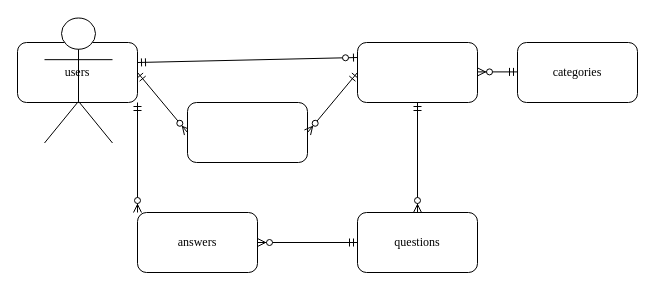
This 655x290 diagram has some shape labels left out. The centre of each missing label's shape, as x and y in pixels:
"test_passenges" goes at [247,132].
"tests" goes at [417,72].
